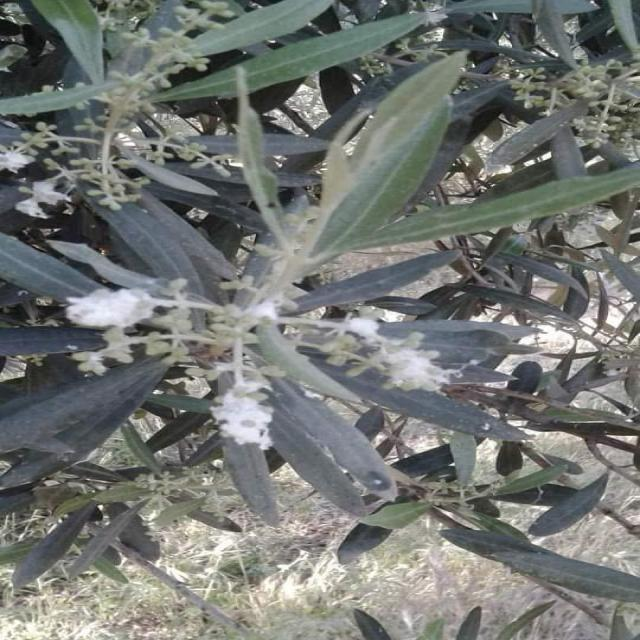Psyllid: (308, 318, 461, 392), (211, 377, 273, 450), (66, 289, 166, 328), (0, 150, 33, 170), (248, 306, 278, 322)
